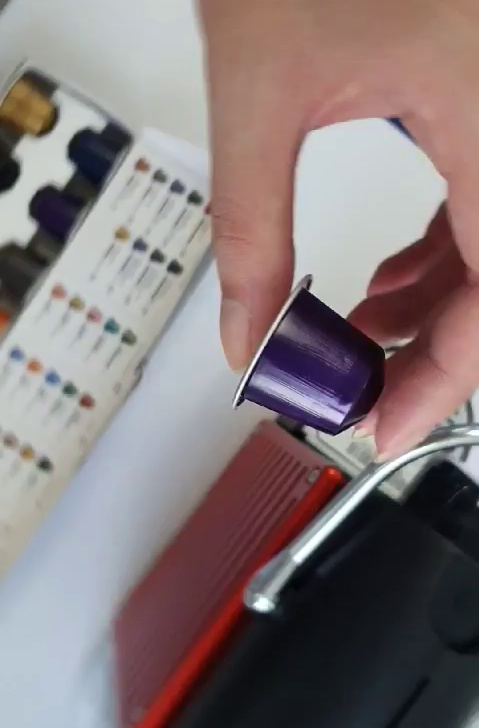capsule_11: (236, 273, 391, 434)
